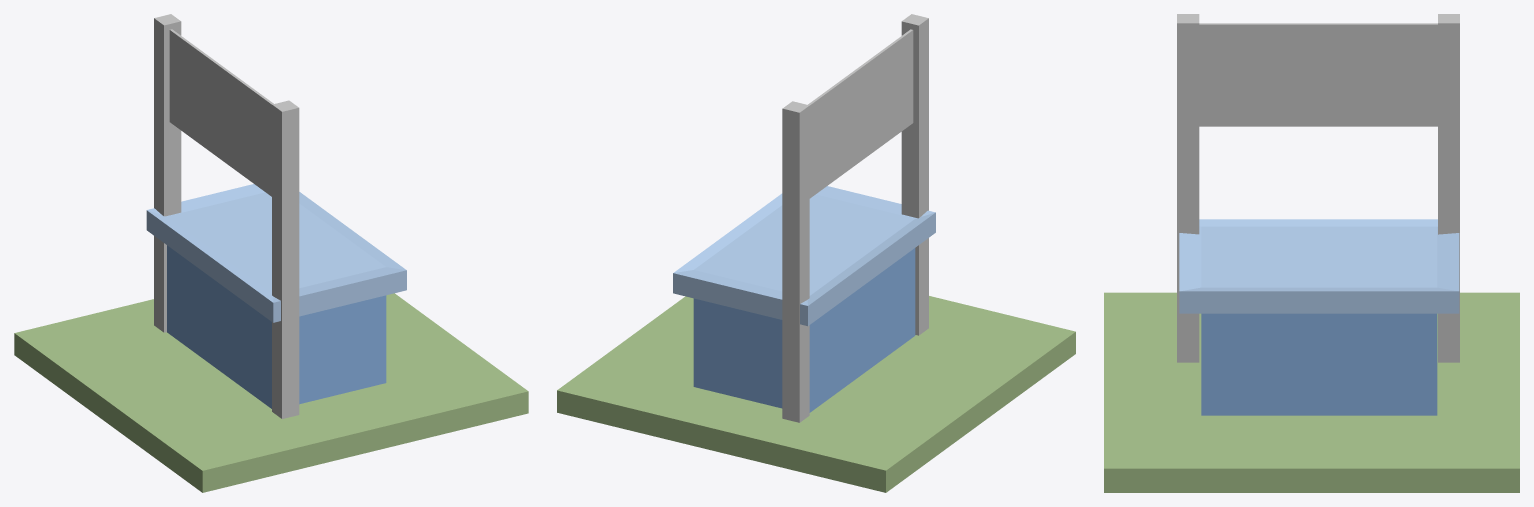
The model's file is seed_stand1.fbx.
3 views of the same model, side by side, from view 1: azimuth 30°, elevation 25°; view 2: azimuth 150°, elevation 25°; view 3: azimuth 270°, elevation 25° (orthographic). The views are drawn at different scales.
Visible parts, largest first — view 1: Cube, Cube.001, Cube.004, Cube.002, Cube.003; view 2: Cube, Cube.001, Cube.004, Cube.003, Cube.002; view 3: Cube, Cube.001, Cube.004, Cube.002, Cube.003.
Part boxes in pixels (x1,y1,x2,y2): Cube: (14,293,528,492); Cube.001: (146,184,406,408); Cube.004: (169,29,273,196); Cube.002: (272,100,299,418); Cube.003: (154,14,181,332); Cube: (557,296,1075,492); Cube.001: (673,186,935,412); Cube.004: (808,29,913,198); Cube.003: (782,101,809,422); Cube.002: (901,14,928,335); Cube: (1104,292,1519,492); Cube.001: (1179,219,1459,415); Cube.004: (1199,23,1437,126); Cube.002: (1177,14,1199,362); Cube.003: (1438,14,1459,362).
Size of the model in its own units: 400 by 386 by 400.
